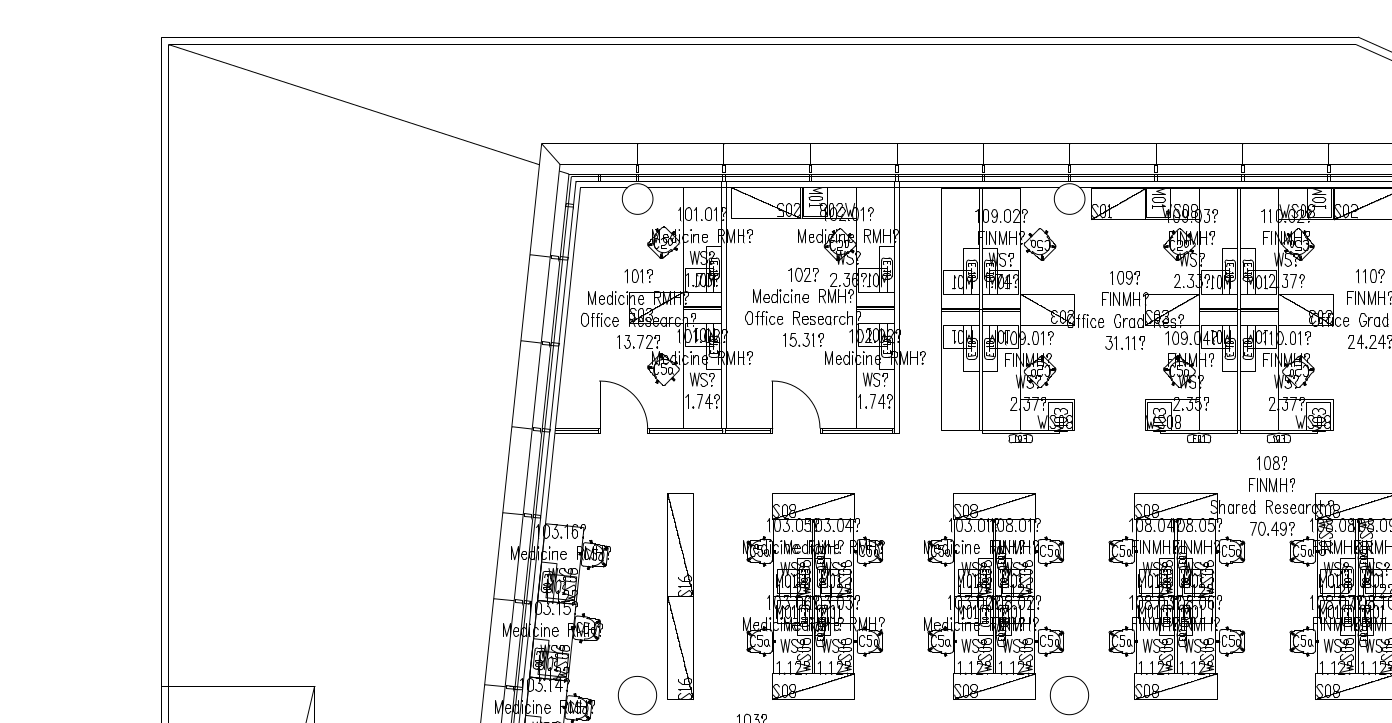door: (767, 370, 825, 439), (595, 371, 653, 440)
